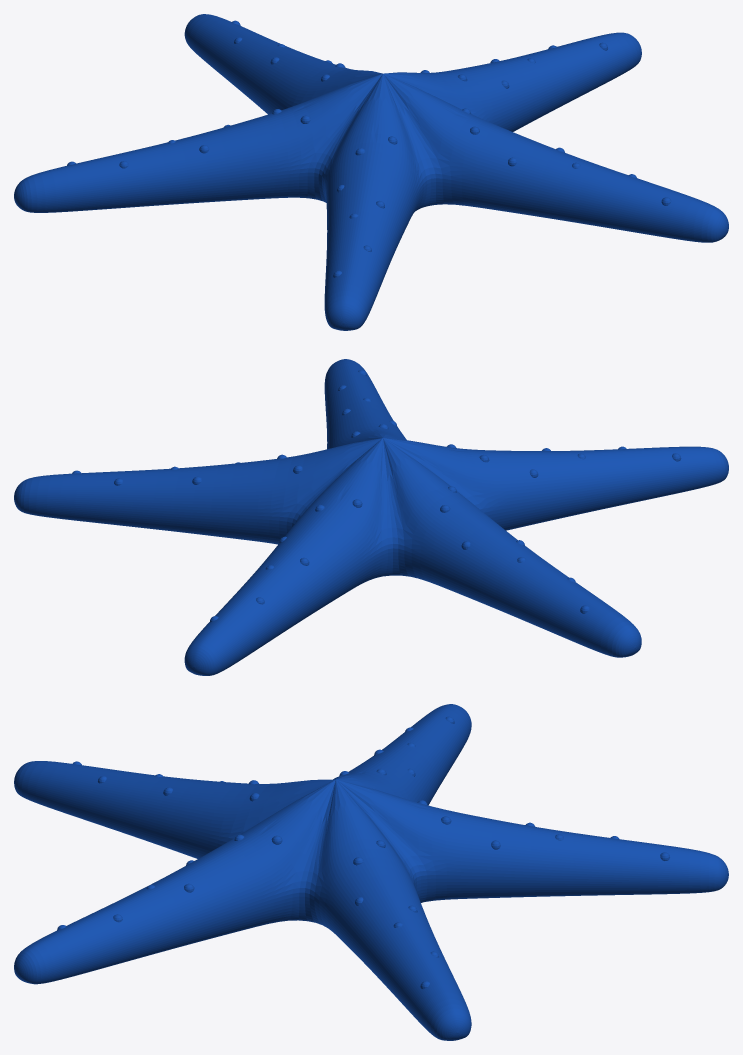
File: starfish_blue.dae
3 views of the same model, one above another, from view 1: azimuth 30°, elevation 25°; view 2: azimuth 150°, elevation 25°; view 3: azimuth 270°, elevation 25° (orthographic). The views are drawn at different scales.
Parts seen in each view (by area): view 1: starfish; view 2: starfish; view 3: starfish.
Boxes of the visible parts, x1,y1,x2,y2 form: starfish: (14, 14, 728, 330); starfish: (14, 359, 728, 675); starfish: (14, 704, 728, 1040).
Bounding box in the file's own units: 14.37 × 13.71 × 2.28.
